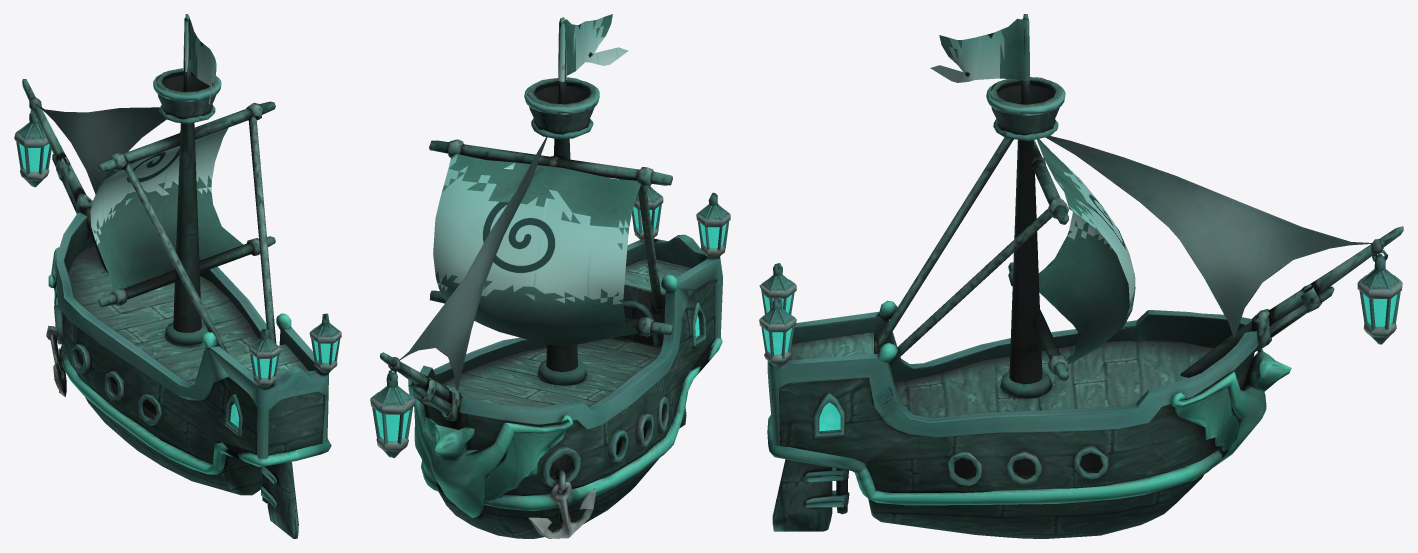
File: wraith.glb
The picture shows the model from 3 angles, left to right: view 1: azimuth 30°, elevation 25°; view 2: azimuth 150°, elevation 25°; view 3: azimuth 270°, elevation 25°; orthographic projection. The views are drawn at different scales.
Visible parts, largest first — view 1: boat_main_0, boat_light_0; view 2: boat_main_0, boat_light_0; view 3: boat_main_0, boat_light_0.
Part boxes in pixels (box(x1,y1,x2,y2)): boat_main_0: box(14, 14, 341, 538); boat_light_0: box(19, 143, 338, 427); boat_main_0: box(370, 14, 730, 538); boat_light_0: box(375, 206, 726, 440); boat_main_0: box(759, 14, 1403, 538); boat_light_0: box(763, 294, 1397, 431).
Bounding box in the file's own units: 12.22 × 26.46 × 29.95.
Materials: 2 (2 with a texture image).
